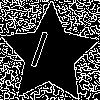I: (24, 30, 52, 78)
